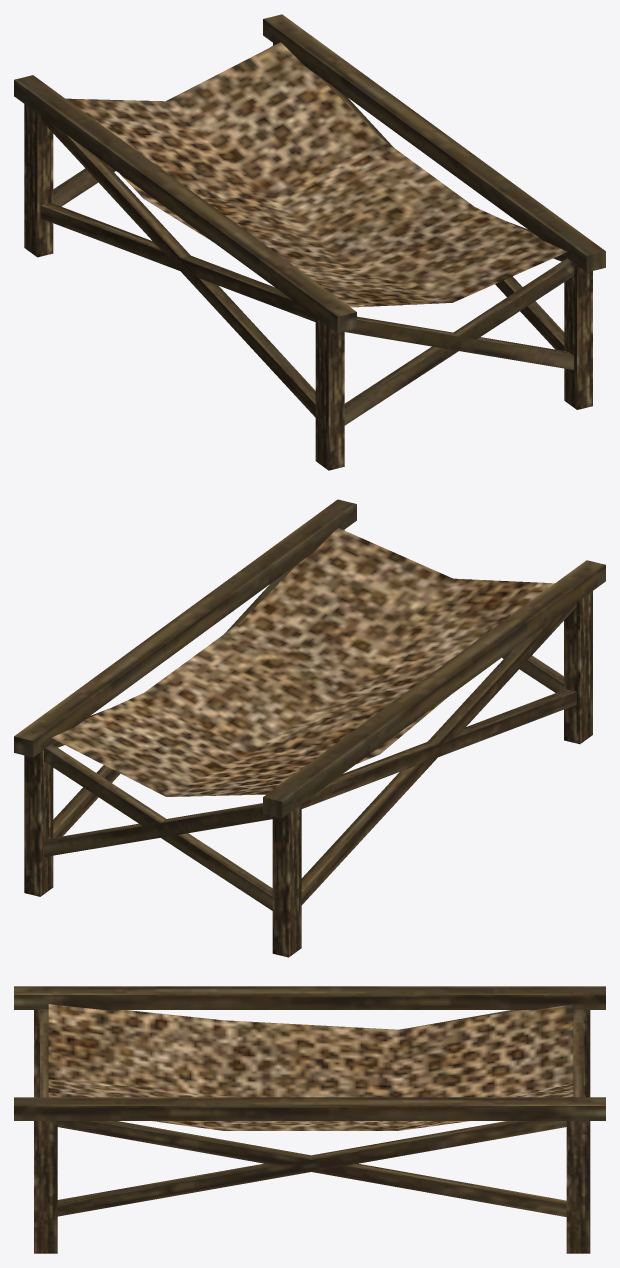
The model's file is general_obj_woodbed.fbx.
3 views of the same model, one above another, from view 1: azimuth 30°, elevation 25°; view 2: azimuth 150°, elevation 25°; view 3: azimuth 270°, elevation 25° (orthographic). The views are drawn at different scales.
Visible parts, largest first — view 1: Object25; view 2: Object25; view 3: Object25.
Boxes of the visible parts, x1,y1,x2,y2 form: Object25: (14, 14, 605, 470); Object25: (14, 499, 605, 957); Object25: (14, 986, 605, 1253).
Bounding box in the file's own units: 1.22 × 0.7064 × 2.55.
